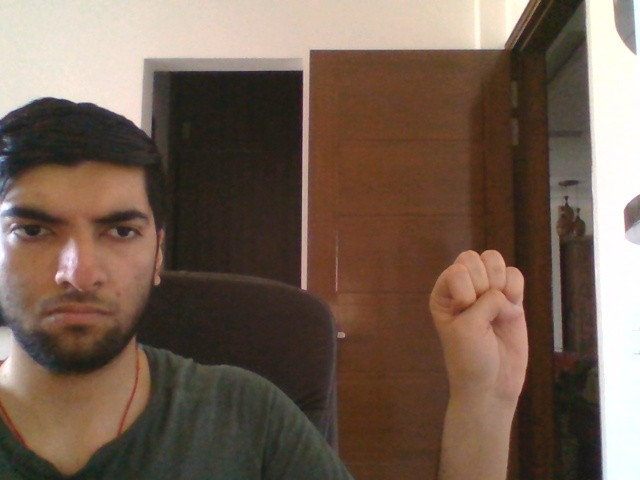LetterS: (428, 246, 531, 405)
